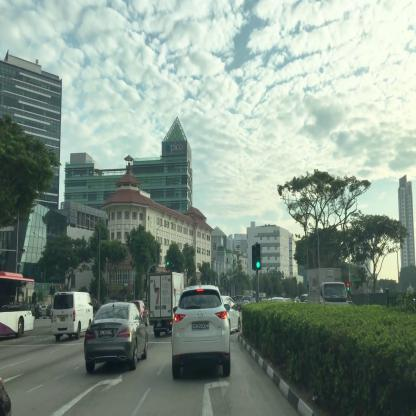green_traffic_light: (254, 242, 262, 268)
